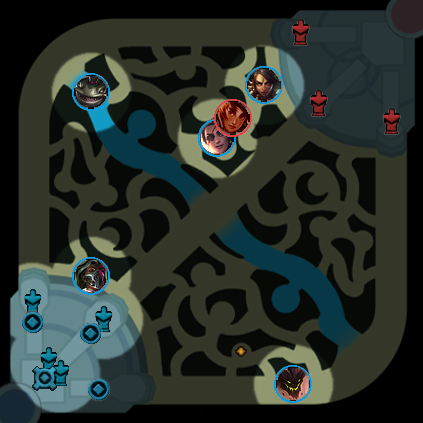Malphite: (274, 365, 312, 403)
Nidalee: (245, 66, 283, 104)
Renata: (72, 257, 110, 295)
Samira: (198, 119, 236, 157)
TahmKench: (72, 73, 110, 111)
Taliyah: (214, 99, 252, 137)
